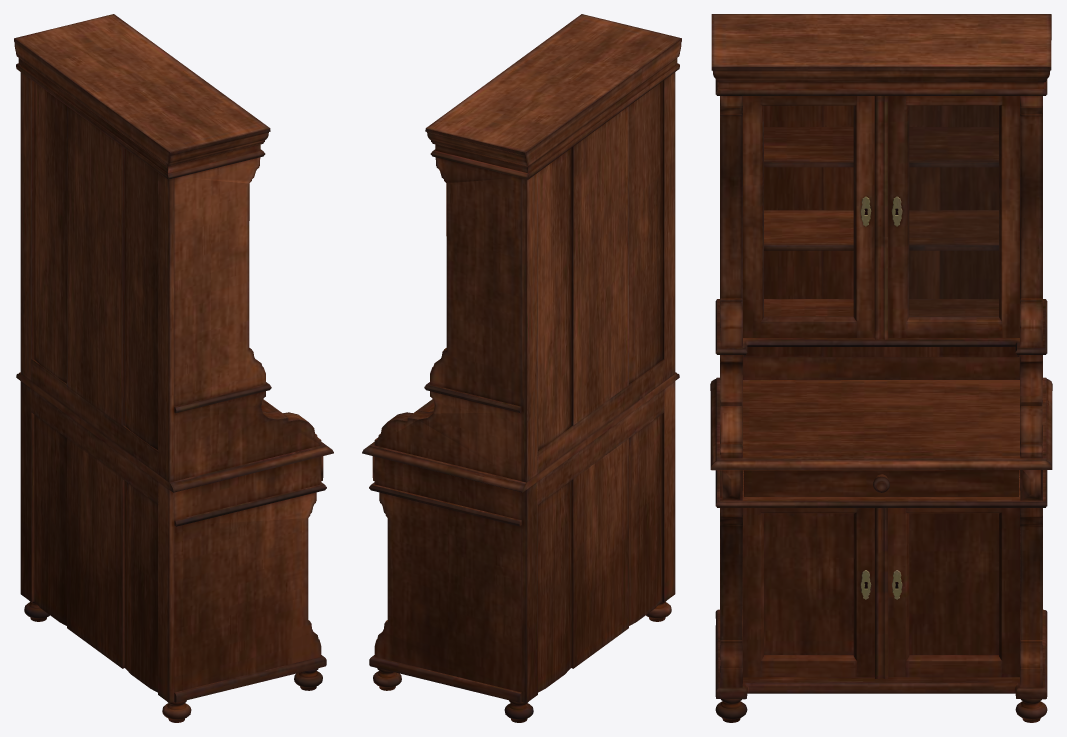
The model's file is wardrobe_red.glb.
3 renders of one model, left to right at view 1: azimuth 30°, elevation 25°; view 2: azimuth 150°, elevation 25°; view 3: azimuth 270°, elevation 25°, orthographic. The views are drawn at different scales.
Parts seen in each view (by area): view 1: angtiqueWardrobe_wood_0; view 2: angtiqueWardrobe_wood_0; view 3: angtiqueWardrobe_wood_0, glass__0.
Part boxes in pixels (x1=…): angtiqueWardrobe_wood_0: x1=14, y1=14, x2=333, y2=722; angtiqueWardrobe_wood_0: x1=362, y1=14, x2=681, y2=722; angtiqueWardrobe_wood_0: x1=710, y1=14, x2=1052, y2=722; glass__0: x1=909, y1=106, x2=998, y2=316.
Size of the model in its own units: 0.5447 by 1.84 by 0.9097.
2 materials, 1 textured.
